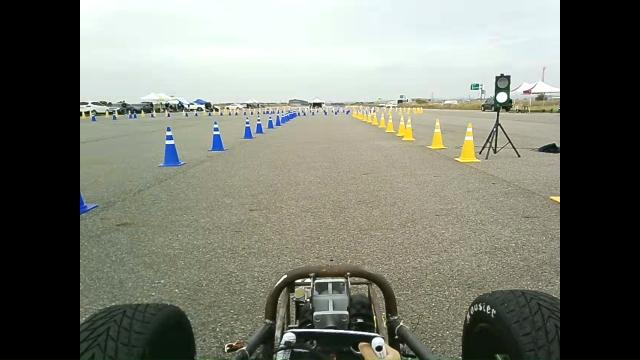blue cone: (157, 126, 186, 166), (207, 120, 228, 152), (241, 116, 255, 138), (255, 115, 265, 134), (274, 114, 282, 126), (267, 118, 274, 129)
yellow cone: (454, 122, 481, 163), (427, 118, 448, 149), (402, 116, 416, 141), (385, 115, 395, 133), (396, 116, 405, 136), (378, 113, 386, 128), (371, 114, 378, 125), (366, 113, 373, 123)
